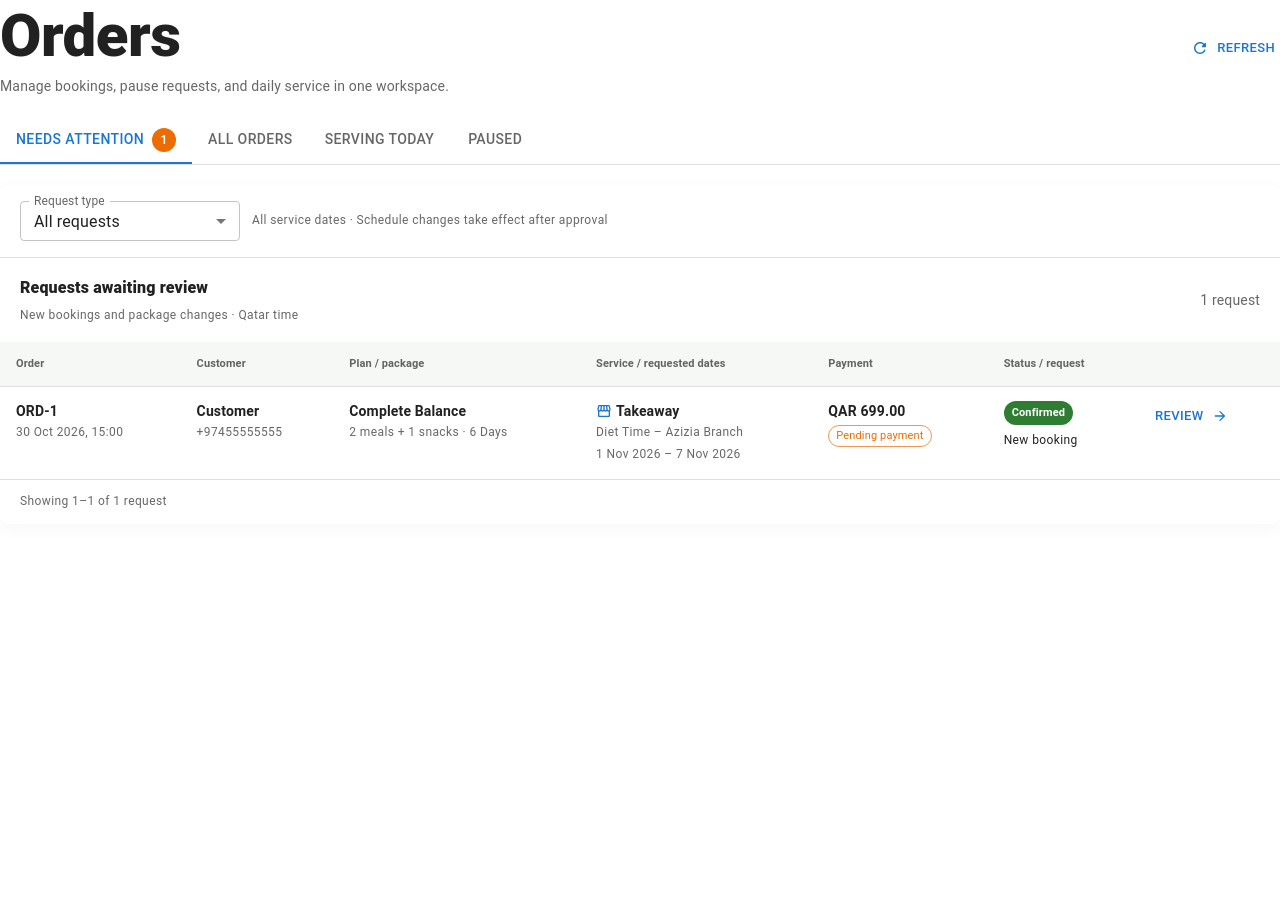
Test case: Staff order review › hides confirmed cancellation for read-only staff
Click the button "Review": click(1190, 416) [1150,401,1231,432]
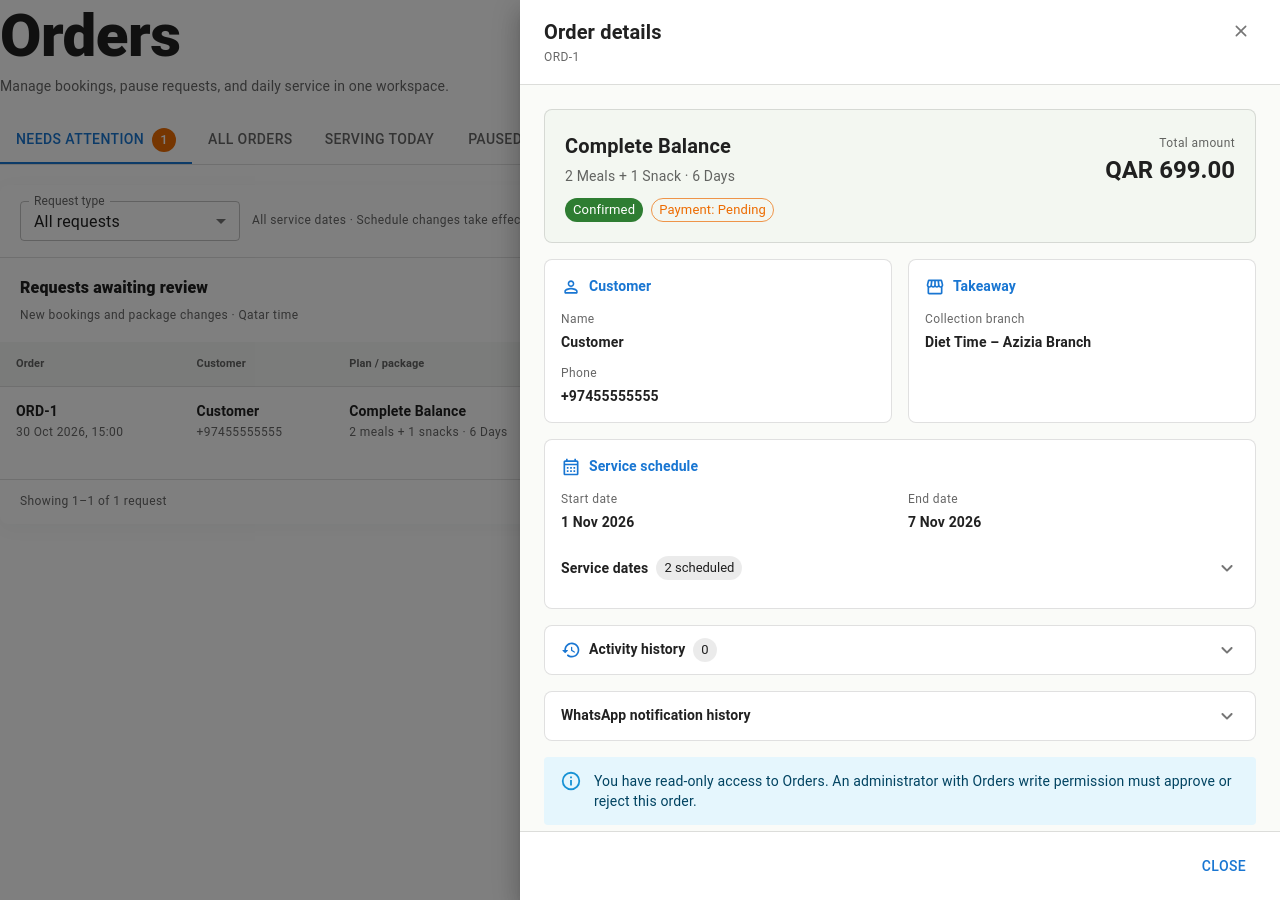
Expected: the dialog "Order details" is shown, [520,0,1279,899]
